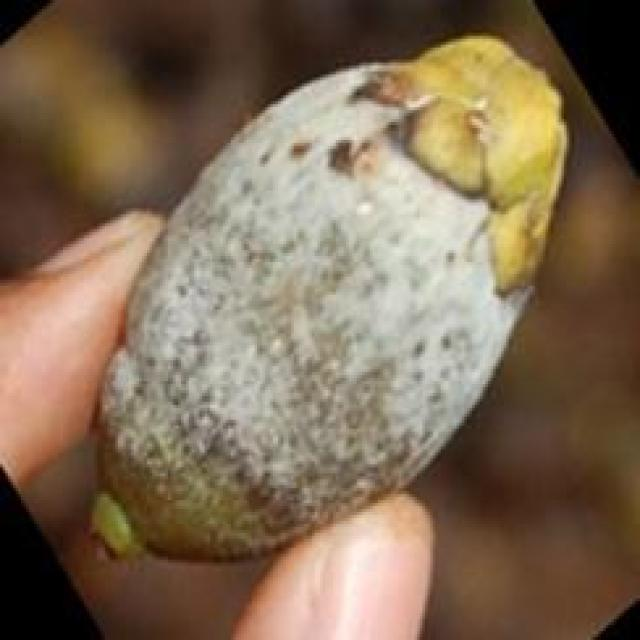damaged: (92, 36, 567, 557)
